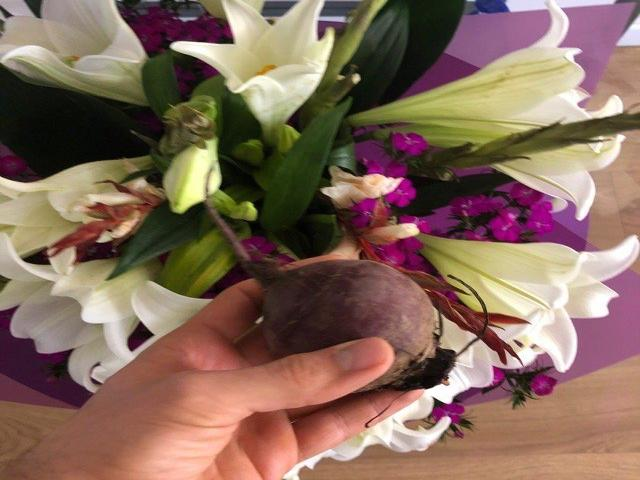beet: (203, 164, 488, 392)
